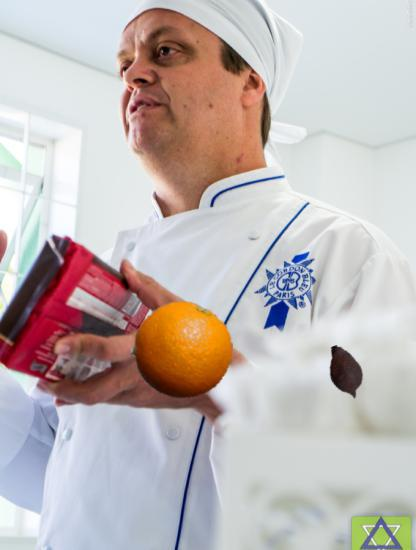Orange: (131, 299, 233, 401)
Salak: (317, 344, 374, 401)
